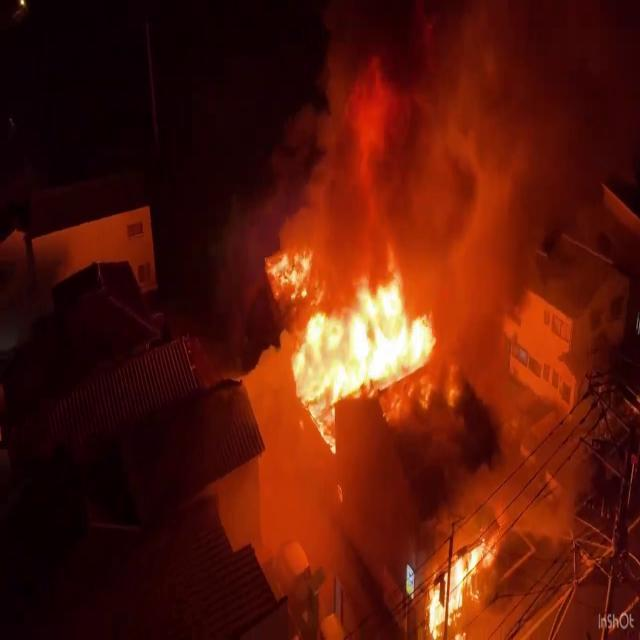Fire: (262, 252, 446, 448), (418, 526, 494, 638)
Smoke: (300, 1, 622, 302)
